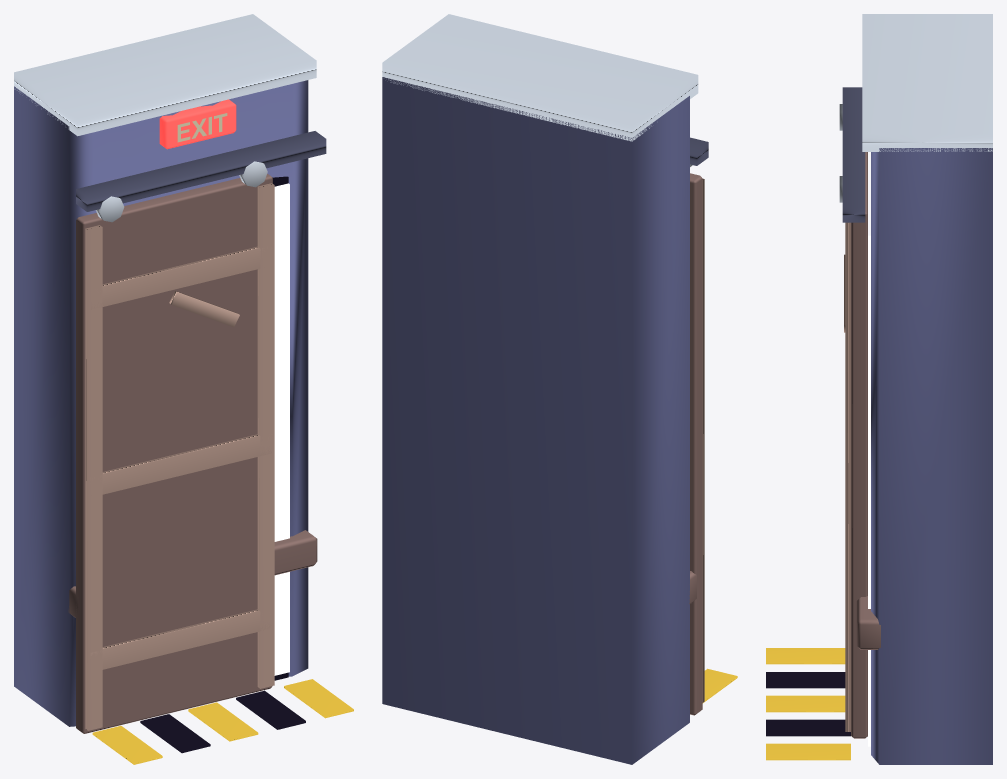
Rendered from wall_barn_door.glb.
The picture shows the model from 3 angles, left to right: view 1: azimuth 30°, elevation 25°; view 2: azimuth 150°, elevation 25°; view 3: azimuth 270°, elevation 25°; orthographic projection. The views are drawn at different scales.
Parts seen in each view (by area): view 1: Wall; view 2: Wall; view 3: Wall.
Part boxes in pixels (x1,y1,x2,y2): Wall: (14,14,353,764); Wall: (382,14,737,764); Wall: (766,14,992,764).
Bounding box in the file's own units: 1 × 2.46 × 0.8.
